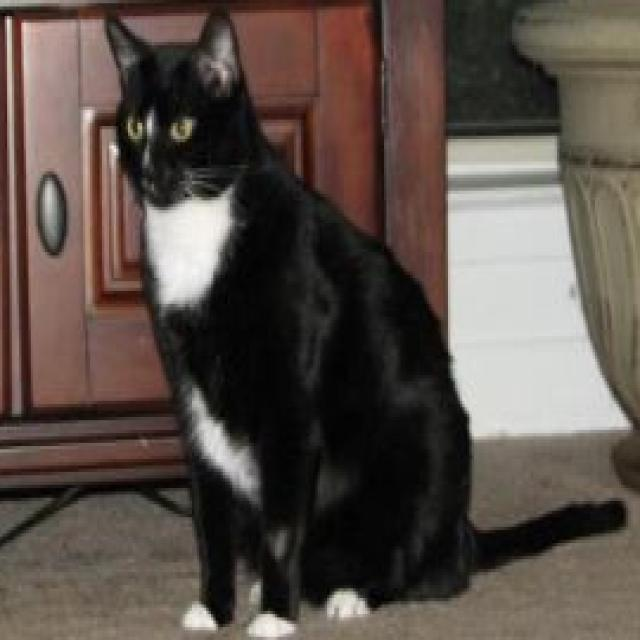Tuxedo: (100, 0, 630, 640)
